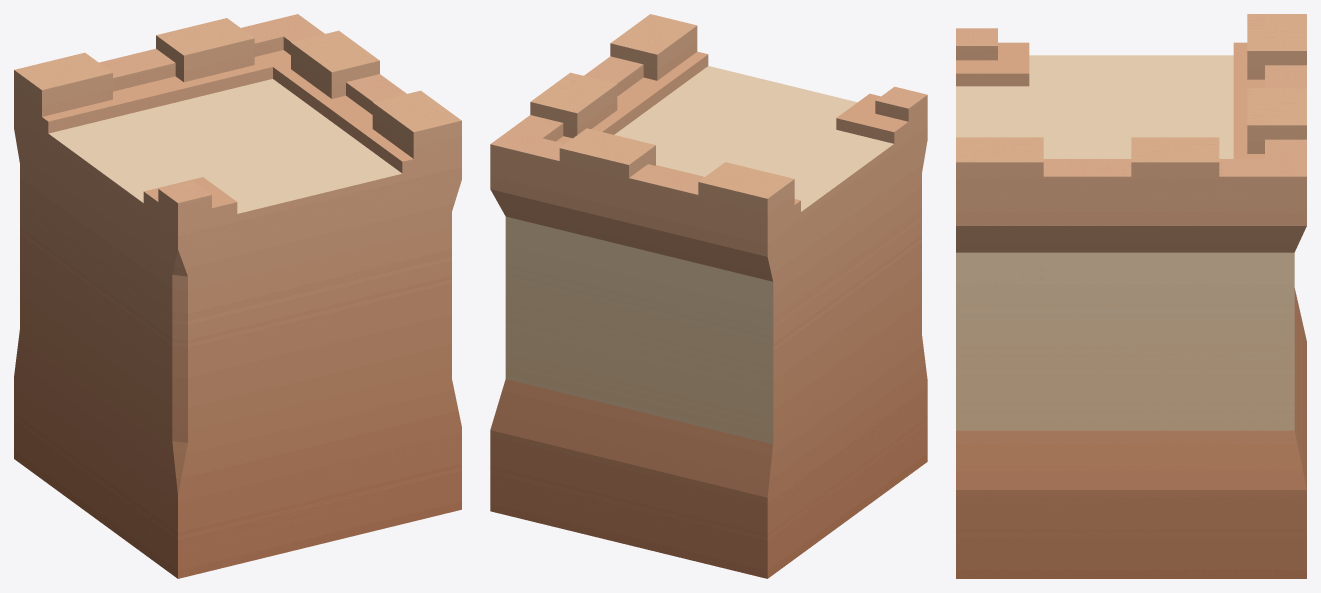
The model's file is wall-corner.glb.
3 renders of one model, left to right at view 1: azimuth 30°, elevation 25°; view 2: azimuth 150°, elevation 25°; view 3: azimuth 270°, elevation 25°, orthographic. The views are drawn at different scales.
Parts seen in each view (by area): view 1: wall-corner; view 2: wall-corner; view 3: wall-corner.
Boxes of the visible parts, x1,y1,x2,y2 form: wall-corner: (14, 14, 461, 578); wall-corner: (490, 14, 927, 578); wall-corner: (956, 14, 1306, 578).
Bounding box in the file's own units: 1 × 1.31 × 1.
1 material, 1 textured.
